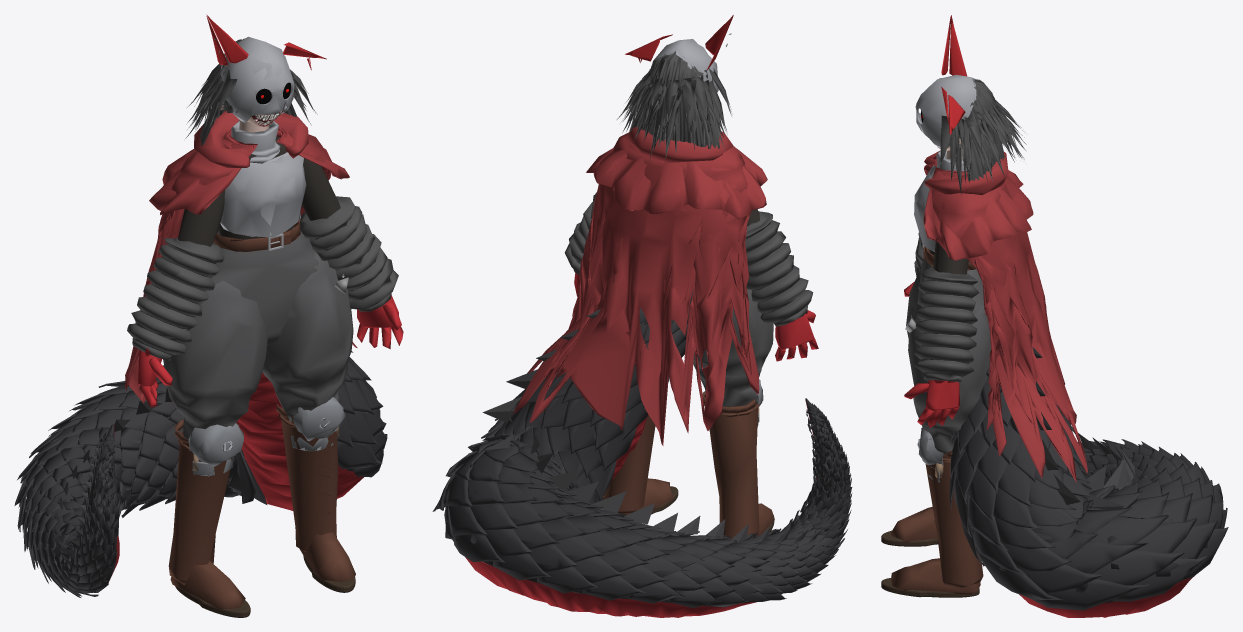
The model's file is jefrie-built-in-code.glb.
3 renders of one model, left to right at view 1: azimuth 30°, elevation 25°; view 2: azimuth 150°, elevation 25°; view 3: azimuth 270°, elevation 25°, orthographic. The views are drawn at different scales.
Visible parts, largest first — view 1: toy; view 2: toy; view 3: toy.
Boxes of the visible parts, bbox=[...] form: toy: bbox=[14, 14, 403, 617]; toy: bbox=[432, 15, 852, 617]; toy: bbox=[881, 15, 1228, 617].
Bounding box in the file's own units: 0.9673 × 1.45 × 0.868.
